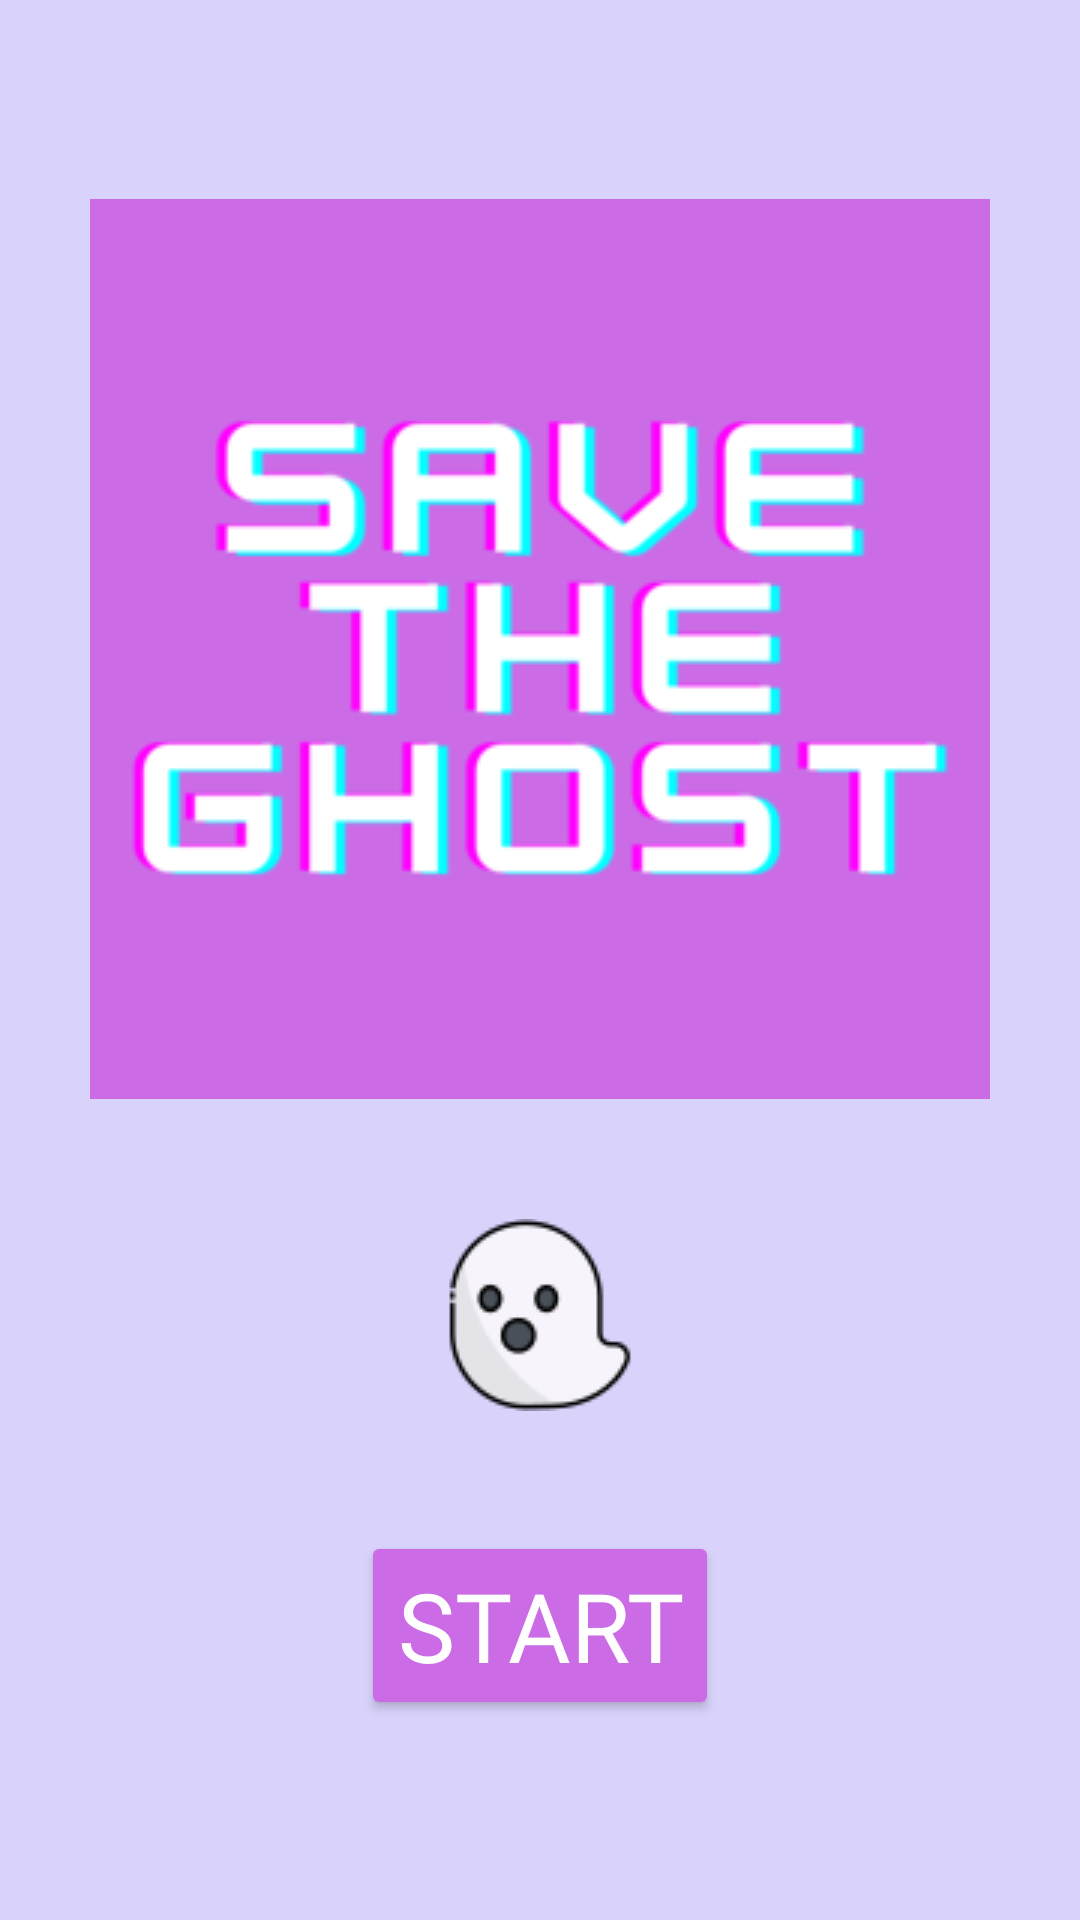

Icon click points for this 1080 x 1920 phone screenshot, format (x,y):
ghost: (540,1315)
